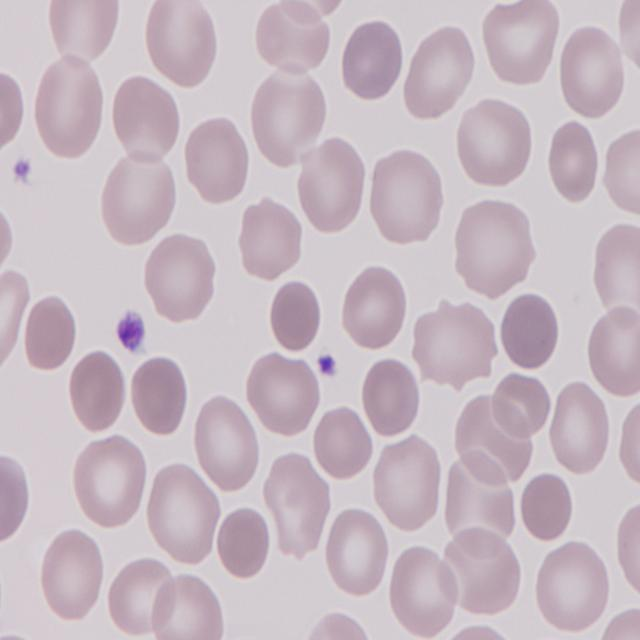Platelets: (110, 308, 146, 356)
RBC: (454, 198, 538, 302), (144, 462, 223, 567), (454, 94, 538, 192), (30, 58, 106, 165), (246, 65, 326, 166), (70, 434, 152, 532), (366, 148, 446, 248), (534, 536, 613, 637), (99, 150, 177, 250), (412, 300, 500, 388), (400, 21, 478, 120), (480, 0, 564, 91), (294, 135, 368, 236), (192, 396, 265, 497), (244, 349, 324, 441), (370, 434, 444, 532), (446, 528, 526, 618), (144, 0, 223, 91), (143, 234, 219, 328), (558, 21, 630, 120), (387, 542, 460, 638), (544, 383, 614, 478), (264, 457, 330, 557), (38, 526, 105, 624), (340, 261, 412, 352), (111, 74, 182, 166), (180, 112, 250, 205), (323, 507, 393, 598), (236, 194, 306, 284), (104, 554, 176, 638), (339, 19, 408, 102), (148, 571, 224, 640), (358, 358, 420, 442), (311, 407, 374, 487), (586, 306, 640, 398), (544, 120, 600, 203), (590, 218, 639, 312), (49, 0, 119, 64), (493, 370, 552, 440), (602, 119, 640, 217), (0, 451, 29, 548), (0, 68, 30, 160), (615, 497, 640, 605), (1, 269, 26, 373), (615, 398, 640, 491), (299, 612, 373, 640), (599, 612, 640, 640)
Spherocyte: (496, 289, 564, 372), (66, 350, 130, 435), (129, 354, 189, 438), (266, 276, 323, 356), (24, 291, 81, 370), (519, 466, 578, 542), (212, 506, 272, 580)
